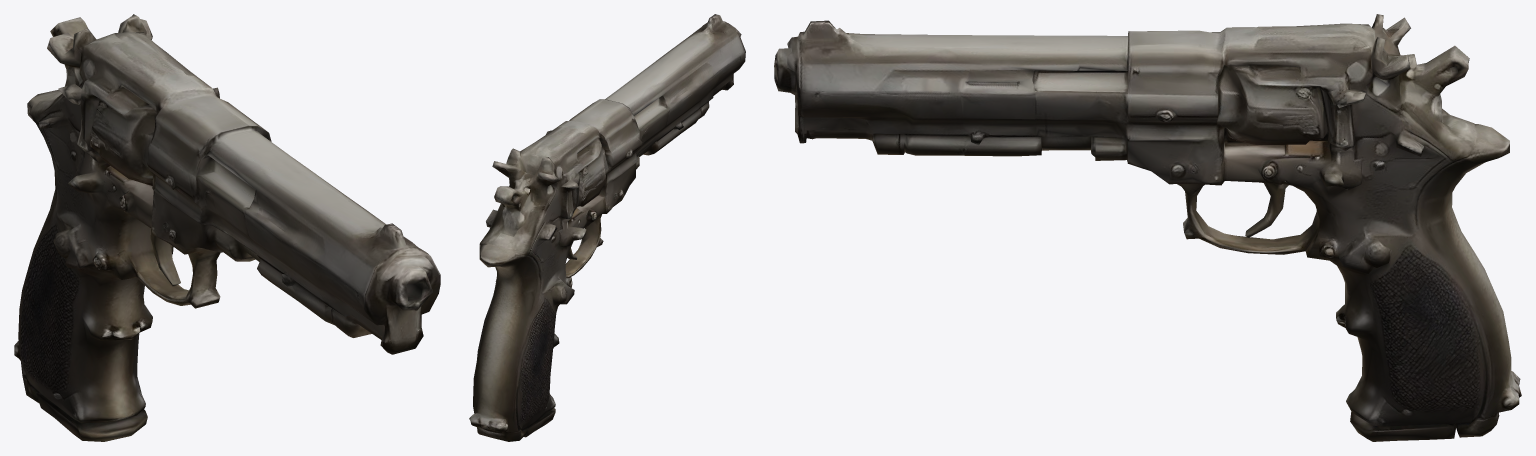
The model's file is w_deagle.glb.
The picture shows the model from 3 angles, left to right: view 1: azimuth 30°, elevation 25°; view 2: azimuth 150°, elevation 25°; view 3: azimuth 270°, elevation 25°; orthographic projection. The views are drawn at different scales.
Parts seen in each view (by area): view 1: tripo_node_452381e2-de08-4d45-b56c-a684862ff075; view 2: tripo_node_452381e2-de08-4d45-b56c-a684862ff075; view 3: tripo_node_452381e2-de08-4d45-b56c-a684862ff075.
Part boxes in pixels (<box>): tripo_node_452381e2-de08-4d45-b56c-a684862ff075: <box>14,14,440,441</box>; tripo_node_452381e2-de08-4d45-b56c-a684862ff075: <box>469,14,745,441</box>; tripo_node_452381e2-de08-4d45-b56c-a684862ff075: <box>774,14,1521,441</box>.
Bounding box in the file's own units: 0.1792 × 0.5995 × 1.
1 material, 1 textured.
